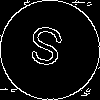S: (25, 25, 66, 76)
